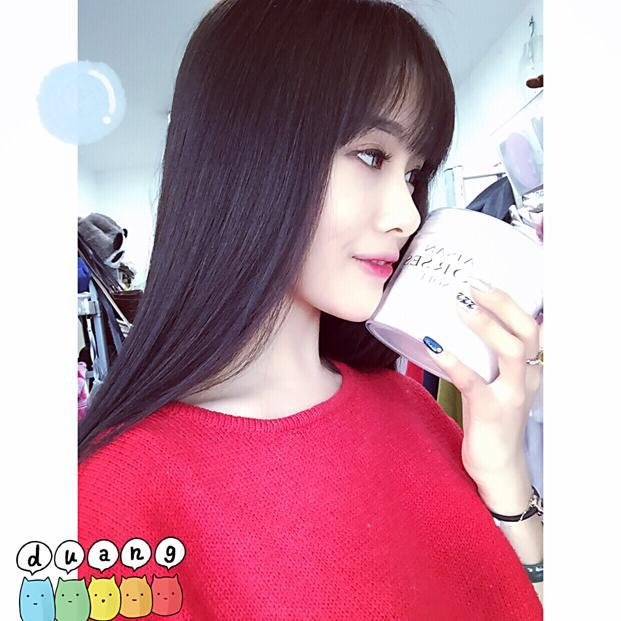goods.clothes: (84, 367, 540, 621)
goods.jewelry: (483, 475, 546, 529)
goods.other: (374, 197, 545, 394)
other.sticker: (10, 535, 186, 620)
person.body: (83, 3, 541, 620)
person.face: (248, 80, 436, 332)
